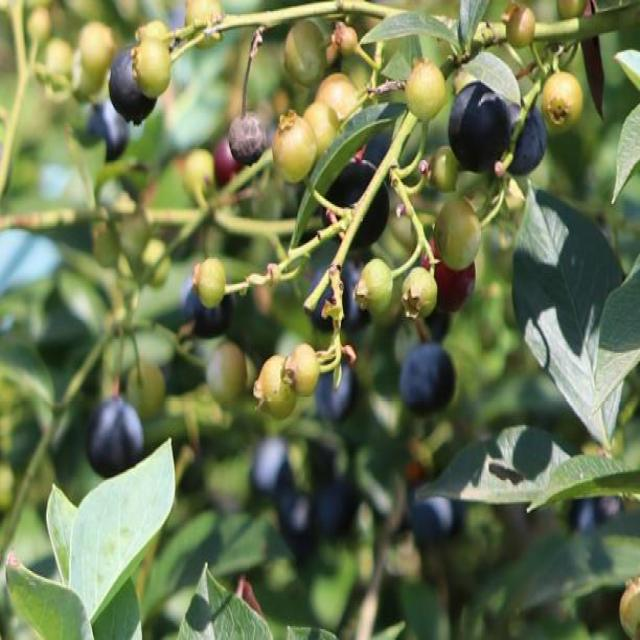blueberry: (444, 66, 512, 168), (319, 151, 391, 246), (84, 395, 143, 472), (398, 342, 456, 420), (178, 262, 236, 337), (304, 254, 367, 322), (107, 45, 158, 128), (409, 477, 464, 535), (502, 101, 545, 174), (313, 361, 362, 423)
blueberry-halfripe: (419, 240, 476, 314), (213, 133, 245, 185)
blueberry-unripe: (270, 110, 319, 185), (434, 194, 482, 270), (407, 52, 451, 125), (207, 341, 253, 406), (284, 24, 326, 83), (540, 67, 578, 132), (320, 72, 363, 129), (257, 351, 294, 416), (132, 35, 171, 94), (355, 254, 394, 312), (283, 340, 322, 396), (398, 260, 434, 318)
